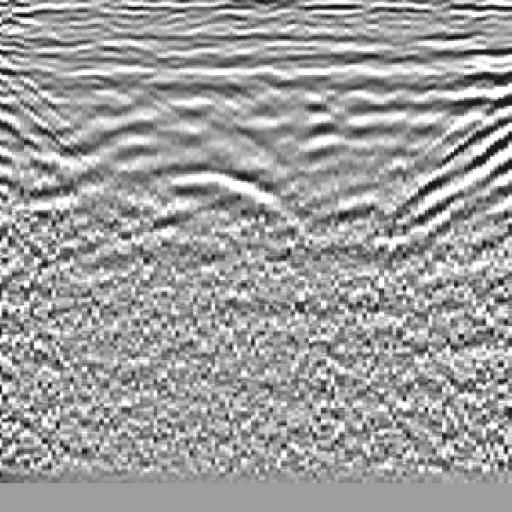metalic: (150, 55, 318, 286), (389, 72, 512, 283)
